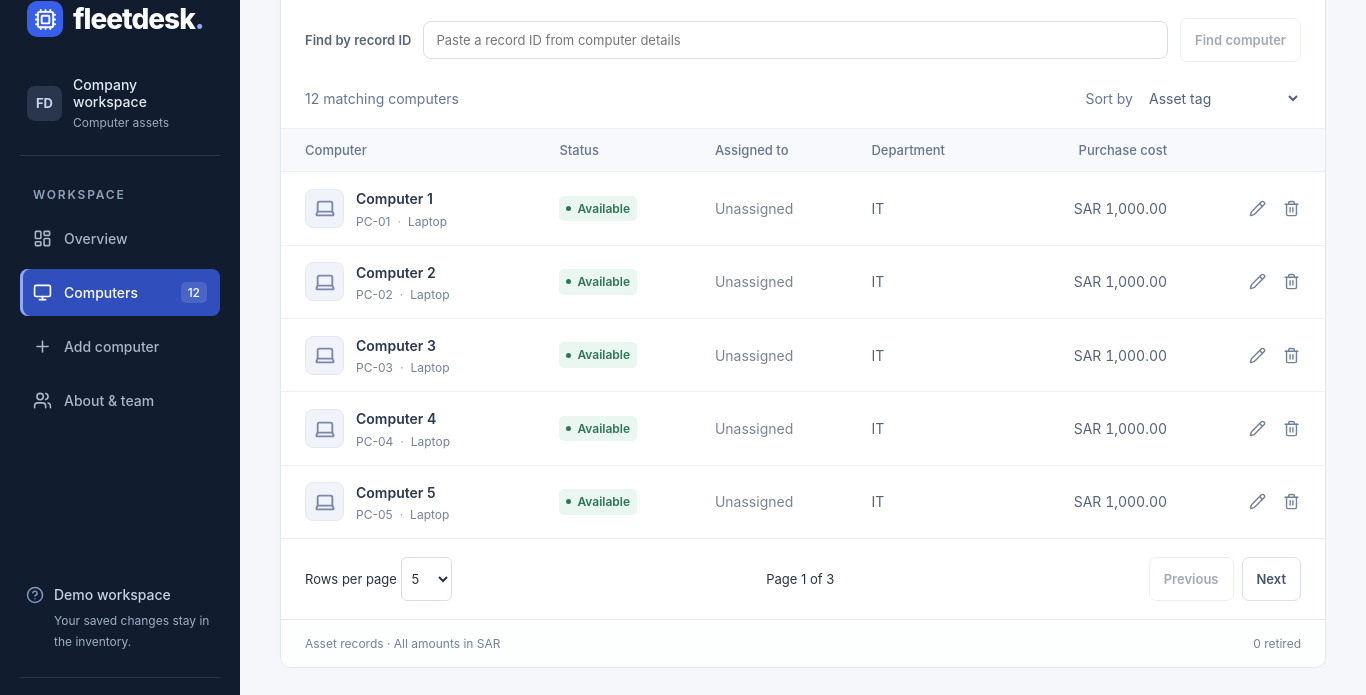
Test: Frontend + HTTP integration › changes page size without downloading the whole collection
(page scrolled)
Check: the button with aria-label "View PC-01 details" is shown, box [356, 188, 433, 211]
Select "10" in the dropdown labelled "Rows per page" at (426, 579), box [401, 557, 452, 601]
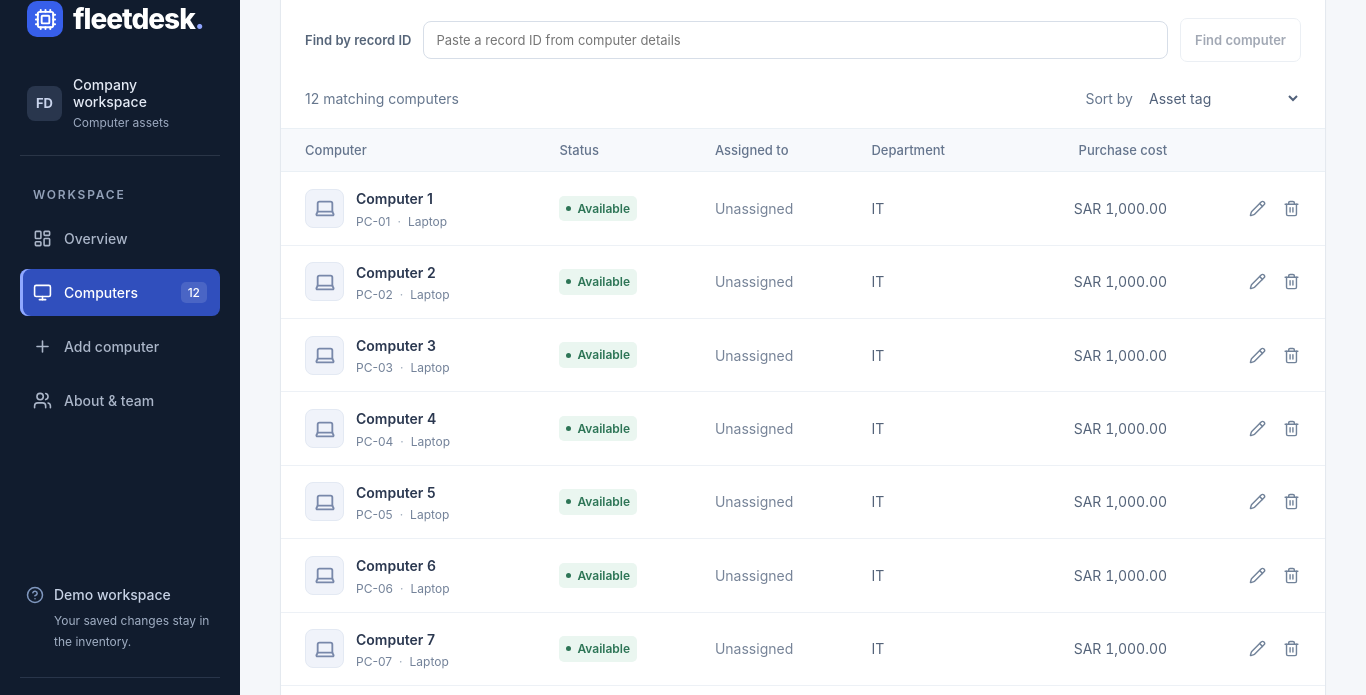
Check: the number of rows is 11
